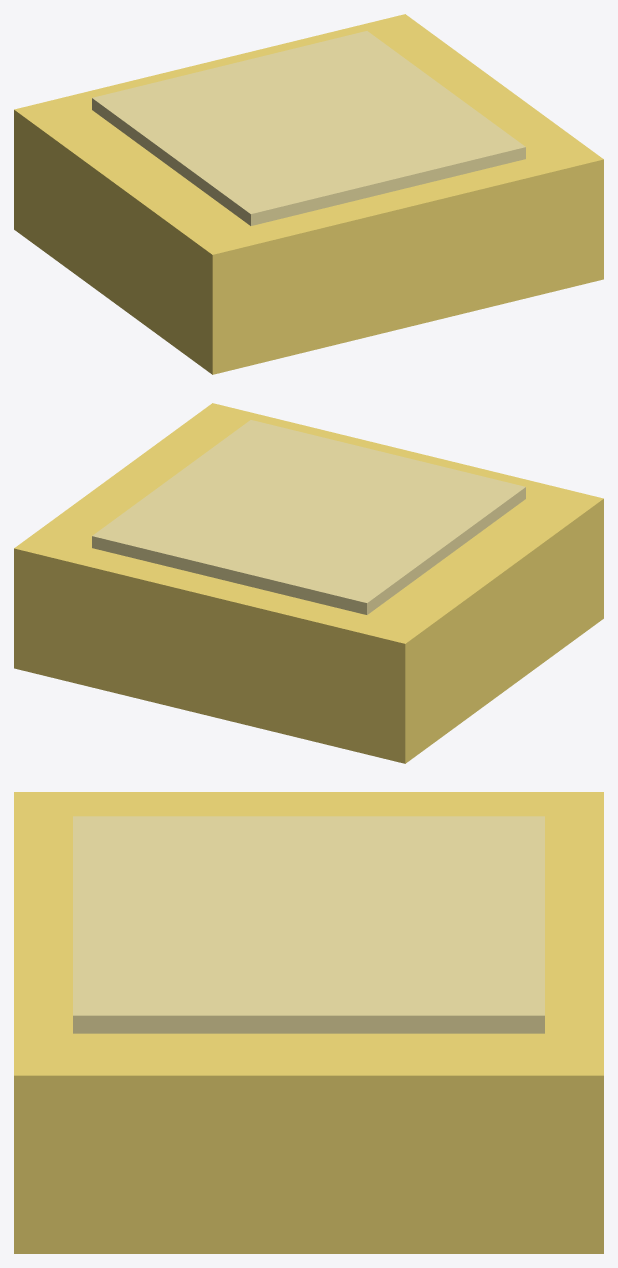
Rendered from Prop_Pet_AMF_Bowl_V18.glb.
The picture shows the model from 3 angles, top to bottom: view 1: azimuth 30°, elevation 25°; view 2: azimuth 150°, elevation 25°; view 3: azimuth 270°, elevation 25°; orthographic projection. The views are drawn at different scales.
Visible parts, largest first — view 1: Prop_Pet_AMF_Bowl_V18; view 2: Prop_Pet_AMF_Bowl_V18; view 3: Prop_Pet_AMF_Bowl_V18.
Part boxes in pixels (box(x1,y1,x2,y2)): Prop_Pet_AMF_Bowl_V18: box(14, 14, 603, 374); Prop_Pet_AMF_Bowl_V18: box(14, 403, 603, 763); Prop_Pet_AMF_Bowl_V18: box(14, 792, 603, 1253).
Size of the model in its own units: 0.3413 by 0.11 by 0.3.
